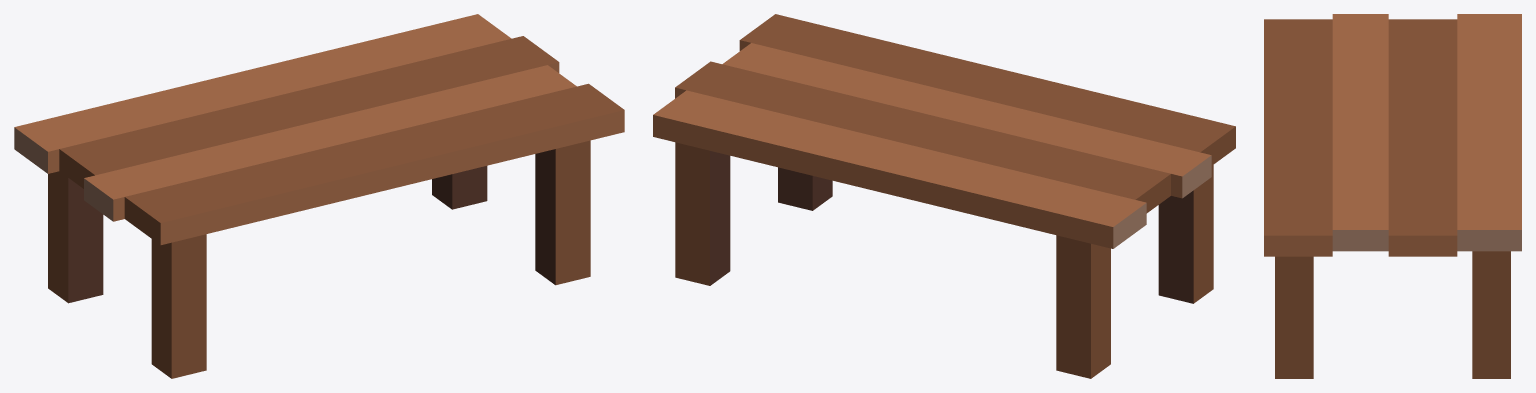
File: TB_Prop_Table.FBX
3 renders of one model, left to right at view 1: azimuth 30°, elevation 25°; view 2: azimuth 150°, elevation 25°; view 3: azimuth 270°, elevation 25°, orthographic. The views are drawn at different scales.
Parts seen in each view (by area): view 1: TB_Prop_Table; view 2: TB_Prop_Table; view 3: TB_Prop_Table.
Boxes of the visible parts, left/top/right/bottom form: TB_Prop_Table: left=14, top=14, right=624, bottom=378; TB_Prop_Table: left=653, top=14, right=1235, bottom=378; TB_Prop_Table: left=1264, top=14, right=1521, bottom=378.
Bounding box in the file's own units: 2.71 × 0.8943 × 1.33.
